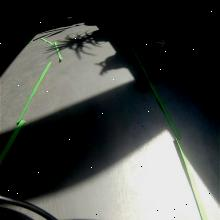right: (153, 32, 168, 52)
